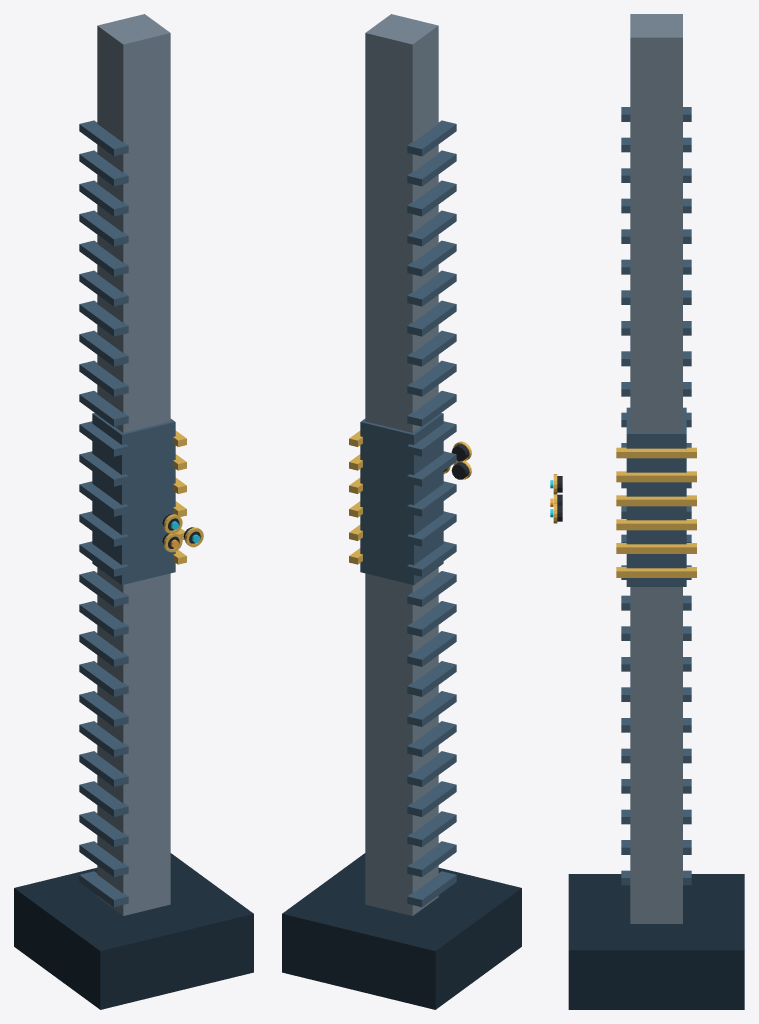
File: 34_L82_MotorizedAntennaHeightMast.fbx
3 views of the same model, side by side, from view 1: azimuth 30°, elevation 25°; view 2: azimuth 150°, elevation 25°; view 3: azimuth 270°, elevation 25° (orthographic).
Visible parts, largest first — view 1: MotorizedAntennaHeightMast, MotorizedAntennaHeightMast_Part_0028; view 2: MotorizedAntennaHeightMast, MotorizedAntennaHeightMast_Part_0028; view 3: MotorizedAntennaHeightMast, MotorizedAntennaHeightMast_Part_0028, MotorizedAntennaHeightMast_Part_0031, MotorizedAntennaHeightMast_Part_0032, MotorizedAntennaHeightMast_Part_0033, MotorizedAntennaHeightMast_Part_0034, MotorizedAntennaHeightMast_Part_0029, MotorizedAntennaHeightMast_Part_0030.
Part boxes in pixels (<box>): MotorizedAntennaHeightMast: <box>14,14,253,1009</box>; MotorizedAntennaHeightMast_Part_0028: <box>92,413,175,584</box>; MotorizedAntennaHeightMast: <box>282,14,521,1009</box>; MotorizedAntennaHeightMast_Part_0028: <box>360,413,443,584</box>; MotorizedAntennaHeightMast: <box>550,14,744,1009</box>; MotorizedAntennaHeightMast_Part_0028: <box>626,407,686,586</box>; MotorizedAntennaHeightMast_Part_0031: <box>616,519,696,530</box>; MotorizedAntennaHeightMast_Part_0032: <box>616,495,696,506</box>; MotorizedAntennaHeightMast_Part_0033: <box>616,471,696,482</box>; MotorizedAntennaHeightMast_Part_0034: <box>616,447,696,458</box>; MotorizedAntennaHeightMast_Part_0029: <box>616,567,696,577</box>; MotorizedAntennaHeightMast_Part_0030: <box>616,543,696,553</box>.
Size of the model in its own units: 123 by 712 by 132.
